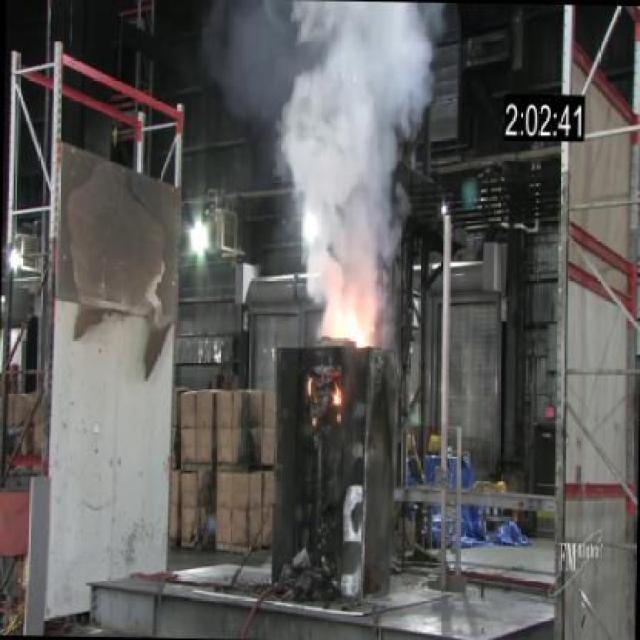fire: (271, 0, 440, 302)
smoke: (325, 308, 378, 350), (329, 378, 343, 411)
